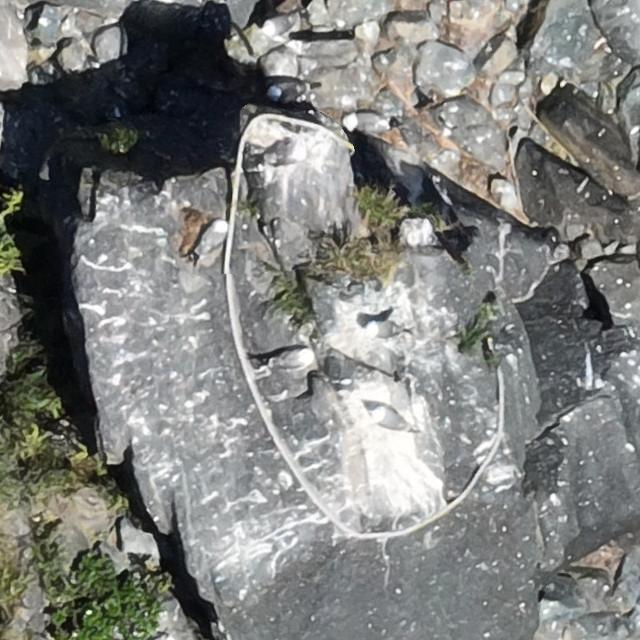umineko: (267, 140, 307, 167), (197, 221, 225, 254), (272, 348, 311, 367), (344, 112, 386, 128), (374, 408, 406, 428), (262, 16, 292, 35), (272, 81, 299, 98), (369, 320, 395, 335)
